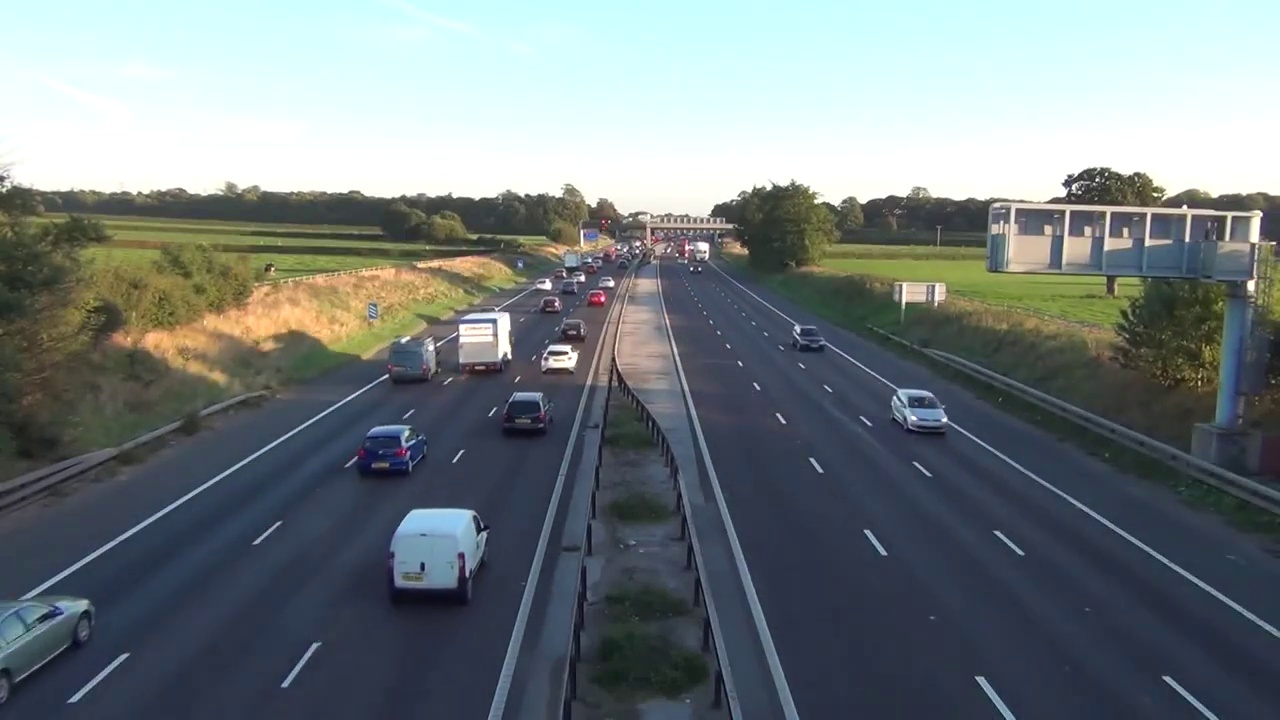bus: (0, 594, 95, 708), (385, 507, 492, 607), (358, 423, 430, 476), (889, 388, 949, 435), (387, 336, 443, 383), (501, 390, 555, 438), (540, 343, 581, 375), (791, 325, 828, 353), (560, 319, 589, 343), (540, 297, 563, 314), (586, 289, 606, 307), (560, 279, 578, 295), (535, 278, 553, 292), (598, 277, 616, 290), (571, 271, 586, 283), (554, 267, 568, 279)
car: (457, 312, 514, 373), (563, 252, 583, 270)
